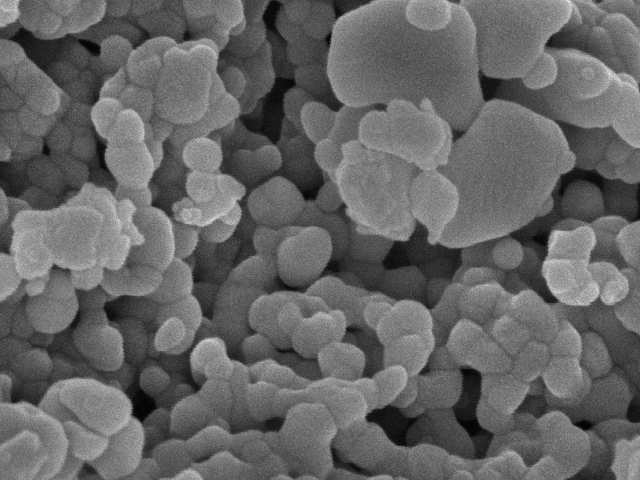nano: (579, 63, 597, 85)
